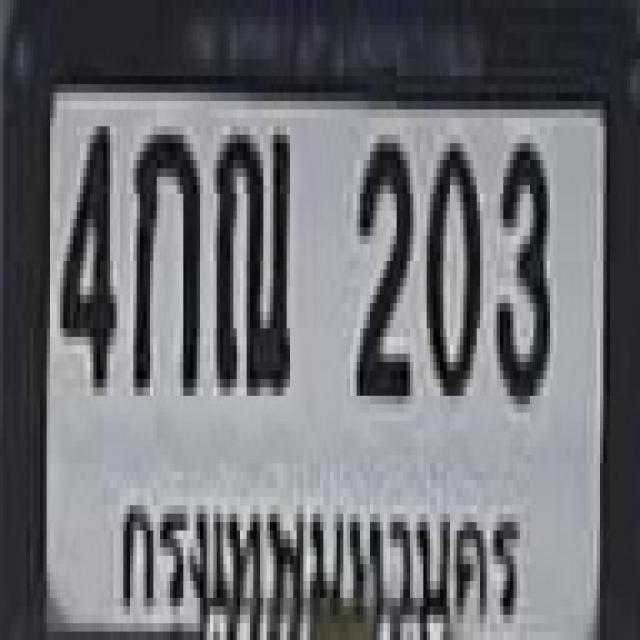0: (423, 135, 477, 387)
2: (353, 135, 410, 387)
3: (493, 135, 547, 396)
4: (57, 118, 113, 379)
A01: (130, 126, 197, 388)
A19: (213, 118, 287, 387)
BKK: (109, 478, 527, 636)
